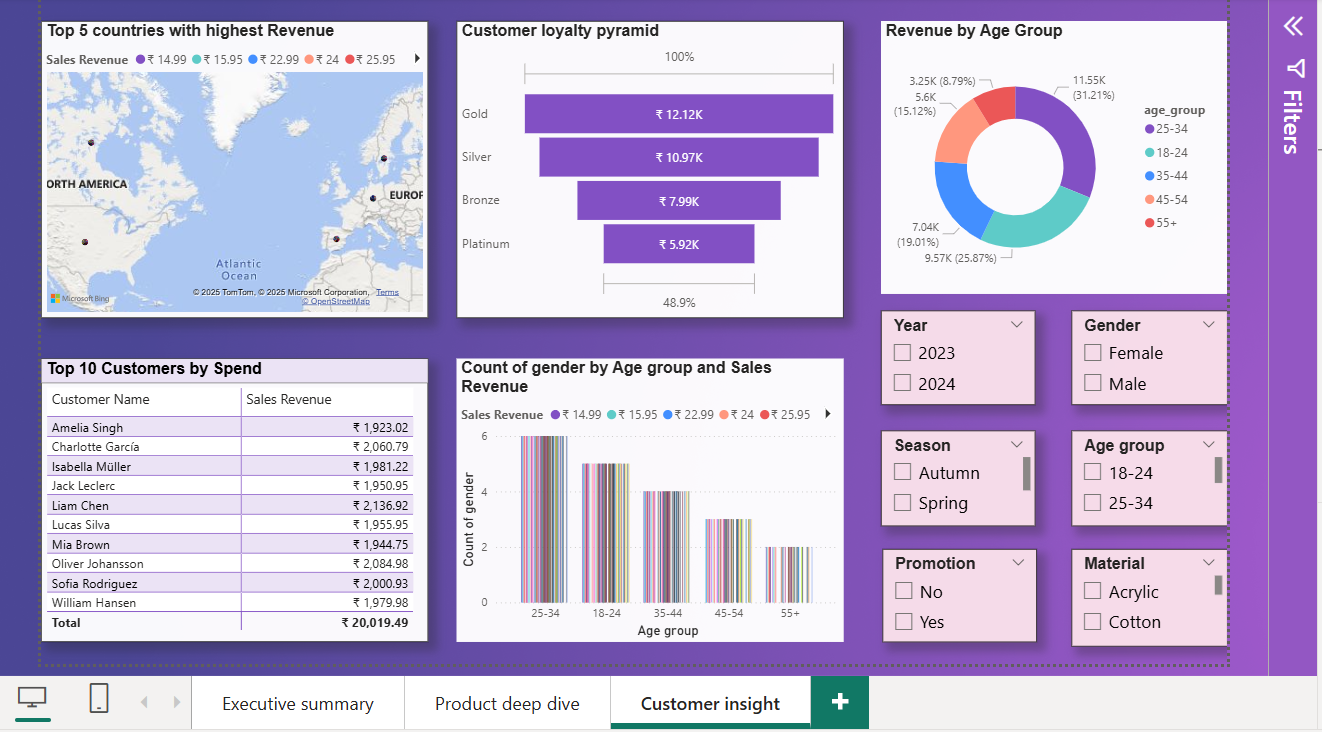

The page's visual inventory and layout, read from the dashboard file:
{"tool":"powerbi","page":{"name":"Customer insight","canvas":[1280,720],"ordinal":2},"visuals":[{"type":"map","title":"Top 5 countries with highest Revenue","fields":{"Category":["customers.country"],"Series":["sales.Sales Revenue"]},"box":[0,25.9,417.8,320.6],"z":0},{"type":"funnel","title":"Customer loyalty pyramid","fields":{"Category":["customers.loyalty_level"],"Y":["sales.Sales Revenue"]},"box":[448.5,25.9,417.8,320.6],"z":1000},{"type":"tableEx","title":"Top 10 Customers by Spend","fields":{"Values":["customers.customer_name","sales.Sales Revenue"]},"box":[0,390.2,417.8,306],"z":2000},{"type":"clusteredColumnChart","fields":{"Category":["customers.age_group"],"Y":["customers.gender"],"Series":["sales.Sales Revenue"]},"box":[449,390,418,306],"z":3000},{"type":"slicer","fields":{"Values":["sales.Year"]},"box":[906.8,338.4,166.8,102],"z":4000},{"type":"slicer","fields":{"Values":["customers.gender"]},"box":[1112.4,338.4,168.4,102],"z":5000},{"type":"slicer","fields":{"Values":["products.season"]},"box":[906.8,468,166.8,103.6],"z":6000},{"type":"slicer","fields":{"Values":["customers.age_group"]},"box":[1112.4,468,168.4,103.6],"z":7000},{"type":"slicer","fields":{"Values":["products.promotion"]},"box":[908.4,595.9,166.8,100.4],"z":8000},{"type":"slicer","fields":{"Values":["products.material"]},"box":[1112.4,595.9,168.4,105.2],"z":9000},{"type":"donutChart","title":"Revenue by Age Group","fields":{"Category":["customers.age_group"],"Y":["sales.revenue"]},"box":[906.8,25.9,374,294.7],"z":10000}]}

Visuals, with their boxes on the page's 1280x720 design canvas (x1, y1, x2, y2). These are canvas units, not pixel positions in the 1322x732 screenshot, which may show the page scaled, cropped or inside an application window:
"Top 5 countries with highest Revenue" map: Rect(0, 26, 418, 346)
"Customer loyalty pyramid" funnel: Rect(448, 26, 866, 346)
"Top 10 Customers by Spend" tableEx: Rect(0, 390, 418, 696)
clusteredColumnChart - customers.age_group x customers.gender: Rect(449, 390, 867, 696)
slicer - sales.Year: Rect(907, 338, 1074, 440)
slicer - customers.gender: Rect(1112, 338, 1281, 440)
slicer - products.season: Rect(907, 468, 1074, 572)
slicer - customers.age_group: Rect(1112, 468, 1281, 572)
slicer - products.promotion: Rect(908, 596, 1075, 696)
slicer - products.material: Rect(1112, 596, 1281, 701)
"Revenue by Age Group" donutChart: Rect(907, 26, 1281, 321)
